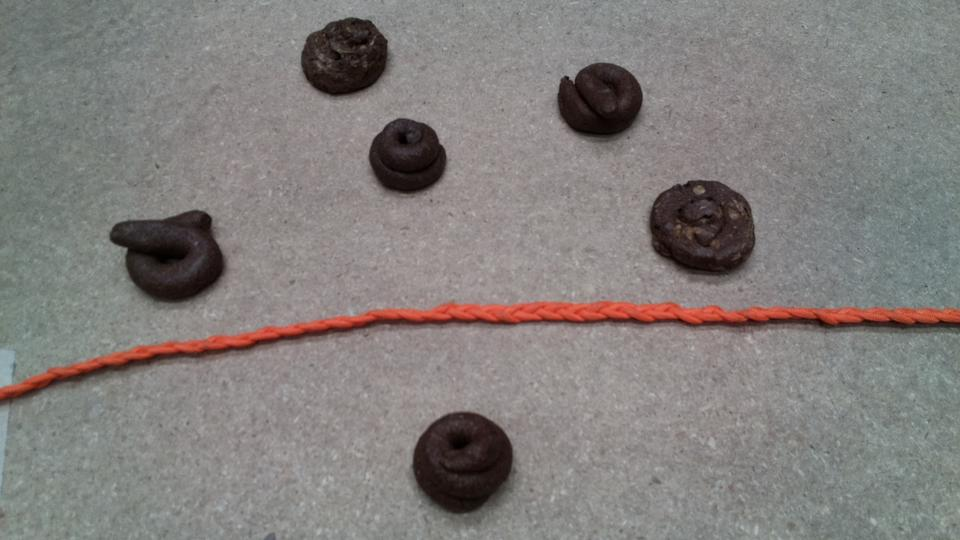poop: (99, 205, 244, 306), (642, 174, 769, 277), (413, 411, 525, 519), (296, 12, 403, 104), (552, 55, 645, 142), (363, 116, 451, 201)
rope: (294, 293, 960, 349), (66, 341, 221, 396), (166, 326, 332, 363), (3, 356, 71, 400)
